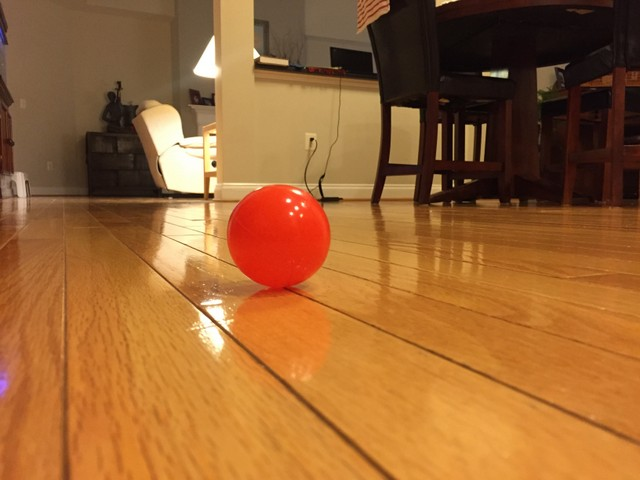Ball: (225, 185, 326, 289)
